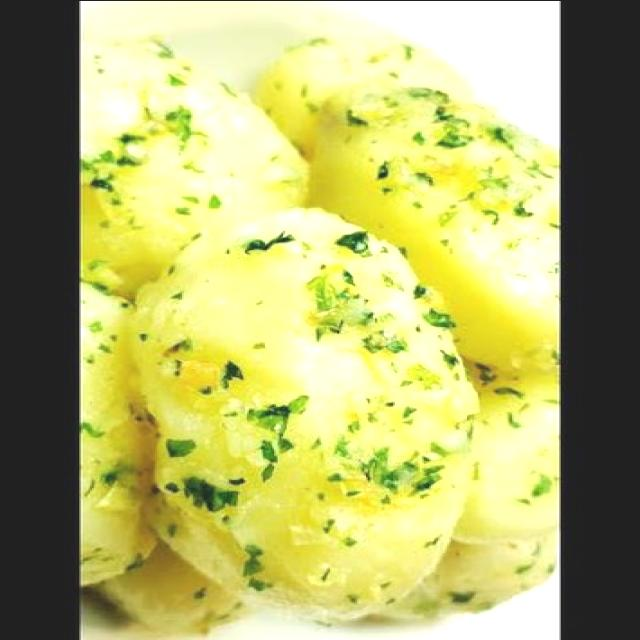kentang rebus: (130, 197, 482, 609)
